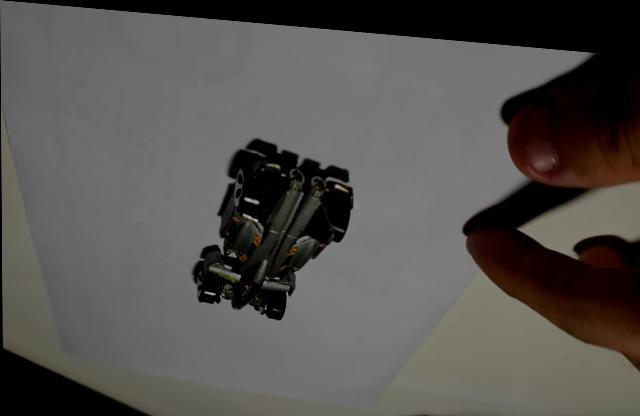05_DC121: (191, 147, 353, 314)
